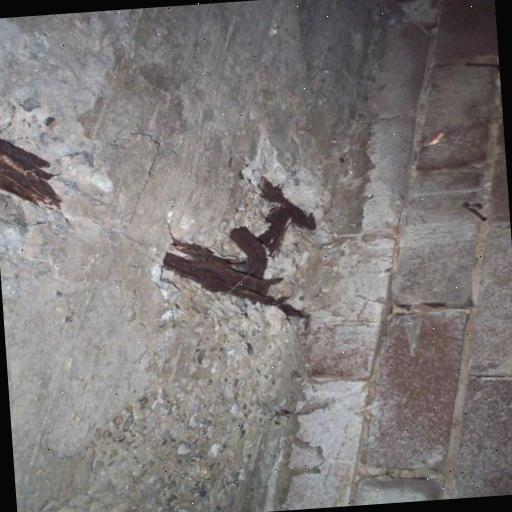spalling: (155, 135, 335, 362), (0, 101, 100, 242)
